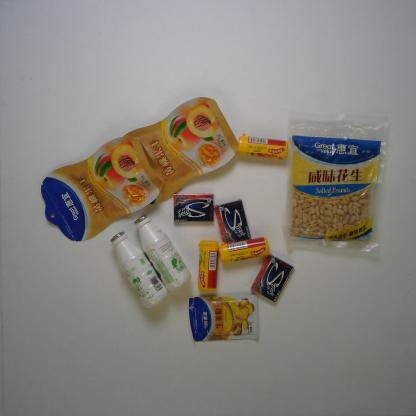Candy: (218, 236, 271, 263), (237, 134, 289, 161), (197, 240, 219, 292)
Dried Fruit: (281, 109, 391, 254), (39, 137, 165, 242), (121, 96, 240, 205)
Gum: (250, 254, 294, 304), (213, 198, 252, 244), (171, 192, 215, 224)
Milk: (109, 230, 170, 309), (134, 213, 192, 292)
Seasoner: (188, 295, 260, 342)
